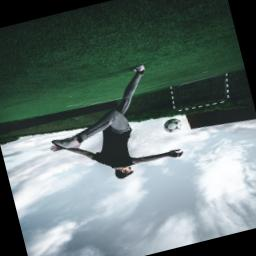football: (162, 116, 183, 134)
